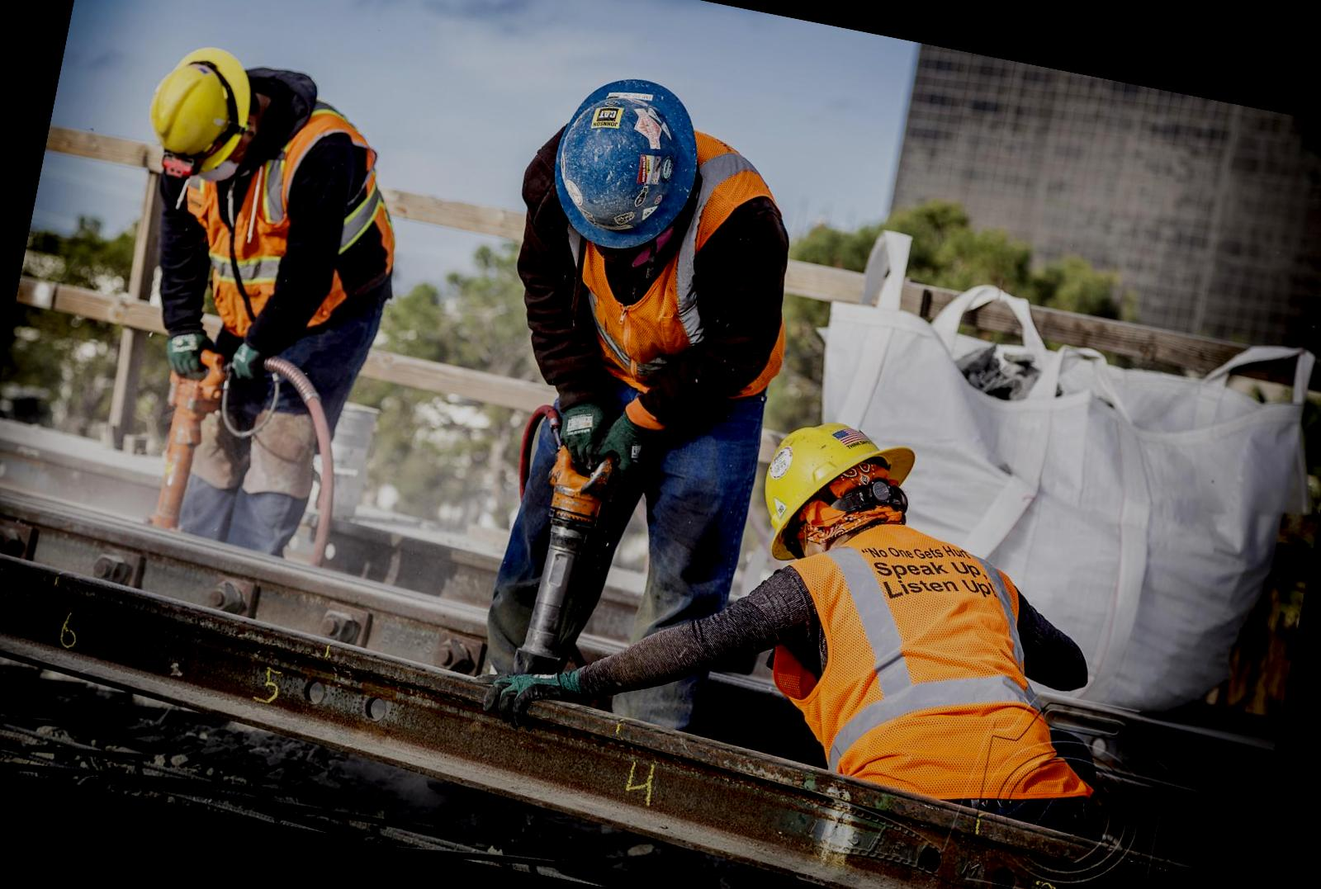helmet: (519, 44, 728, 277), (723, 387, 938, 559), (112, 28, 280, 201)
person: (424, 35, 840, 688), (675, 393, 1154, 844), (70, 7, 456, 544)
